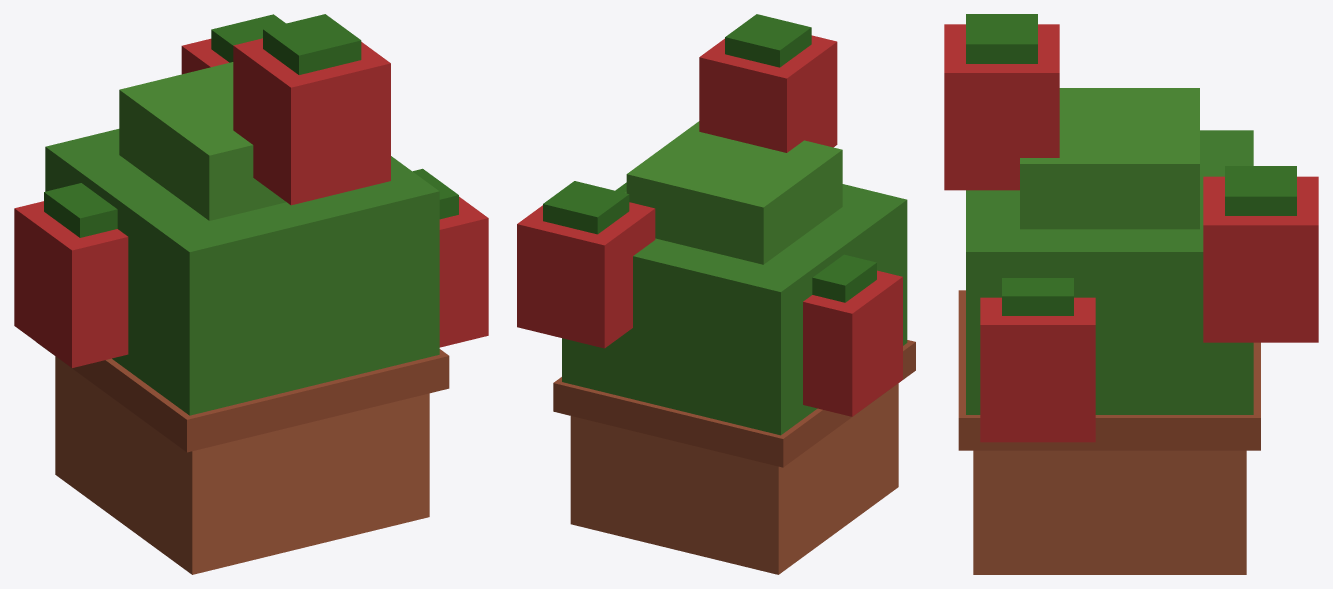
File: nt-strawberry-pot.glb
3 views of the same model, side by side, from view 1: azimuth 30°, elevation 25°; view 2: azimuth 150°, elevation 25°; view 3: azimuth 270°, elevation 25° (orthographic). The views are drawn at different scales.
Visible parts, largest first — view 1: box-prop; view 2: box-prop; view 3: box-prop.
Boxes of the visible parts, box(x1,y1,x2,y2) form: box-prop: box(14, 14, 488, 574); box-prop: box(517, 14, 915, 574); box-prop: box(944, 14, 1318, 574).
Bounding box in the file's own units: 1.16 × 1.52 × 1.04.
